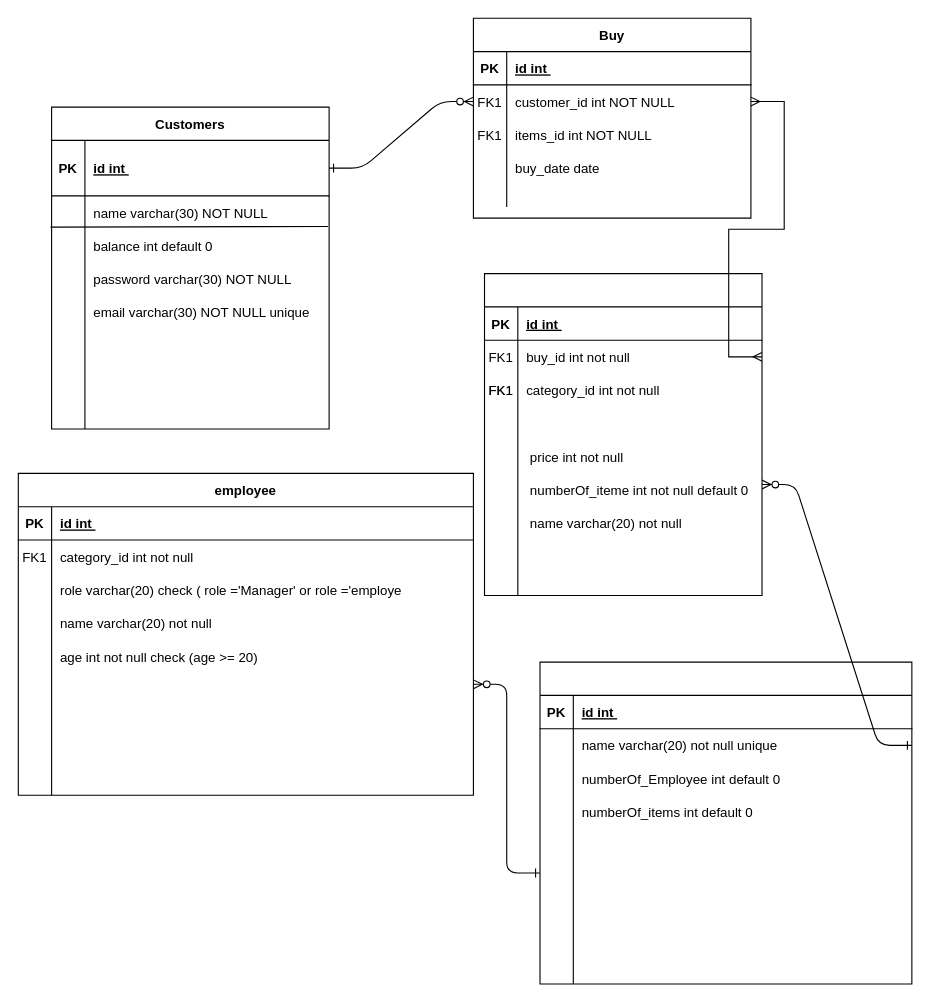
Some shapes in this 930 by 1002 pixel diagram are drawn without their labels. Here are the shapes that lost their labels. From the top down, the box of each, then its label:
(483, 273, 762, 596): items
(539, 661, 912, 984): Category
